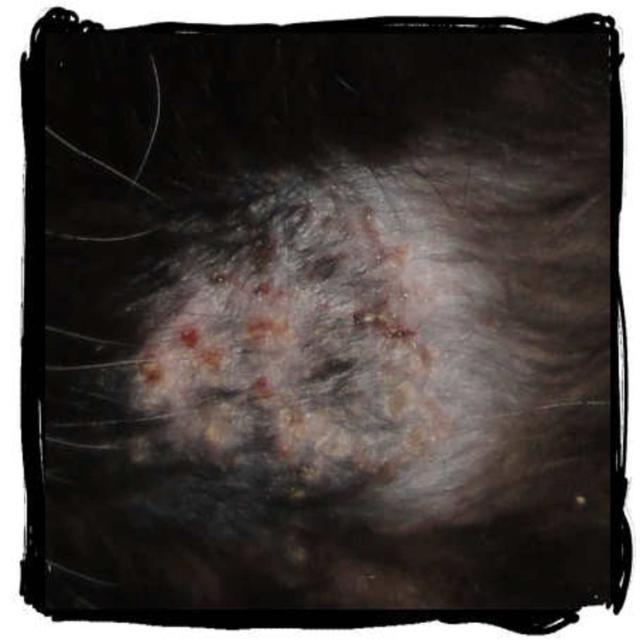hac lao: (102, 145, 536, 533)
